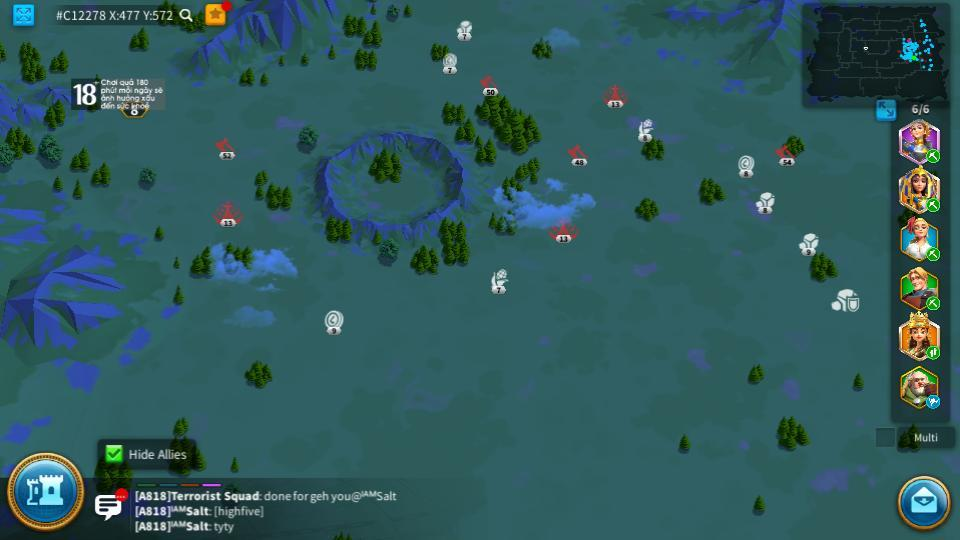march_idle: (925, 396, 942, 408)
march_marching: (925, 197, 941, 212), (925, 150, 942, 162), (925, 347, 941, 359), (925, 248, 941, 260), (926, 297, 941, 308)
